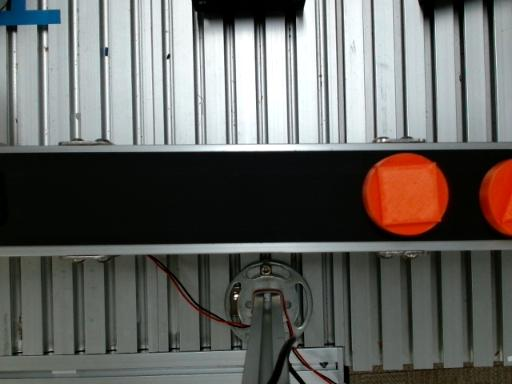Orange_Waper: (362, 153, 448, 235), (479, 160, 511, 234)
Square: (375, 162, 441, 225)
